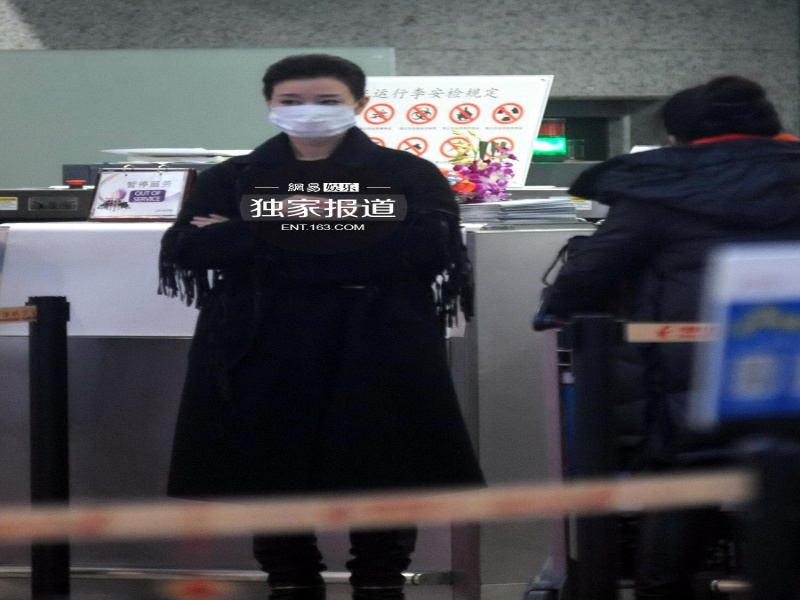mask: (266, 41, 369, 151)
